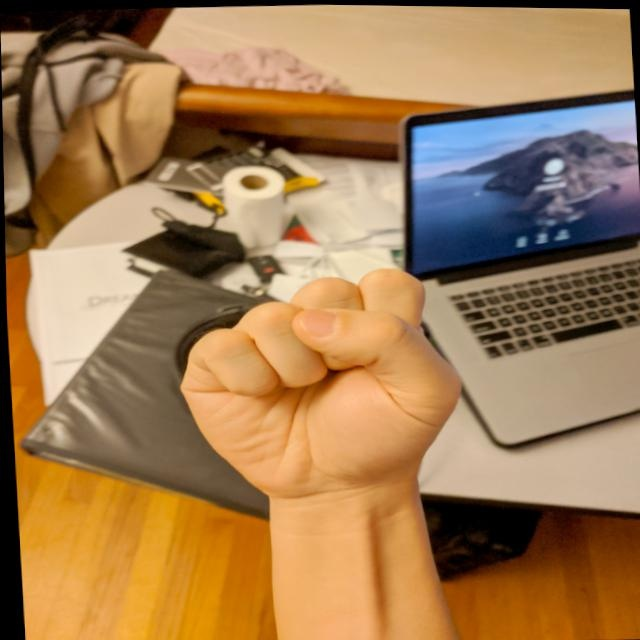S: (164, 257, 474, 511)
